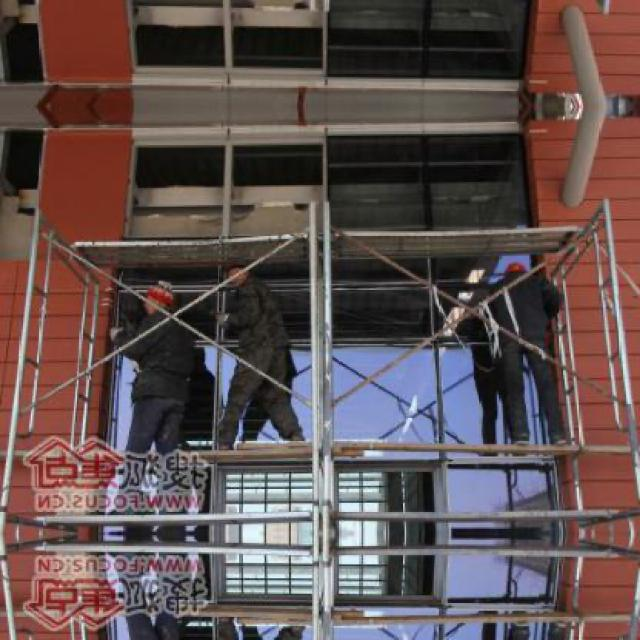helmet: (141, 278, 177, 314), (502, 259, 528, 284)
